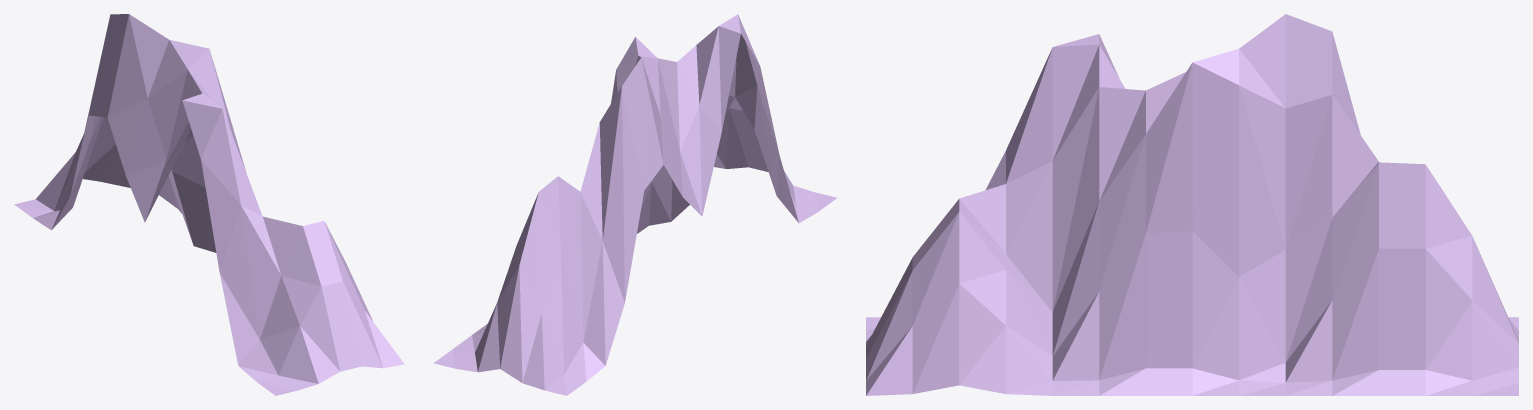
The model's file is terrain_x.dae.
3 views of the same model, side by side, from view 1: azimuth 30°, elevation 25°; view 2: azimuth 150°, elevation 25°; view 3: azimuth 270°, elevation 25° (orthographic). The views are drawn at different scales.
Parts seen in each view (by area): view 1: group_0_001; view 2: group_0_001; view 3: group_0_001.
Part boxes in pixels (left/top/right/bottom): group_0_001: left=14, top=14, right=404, bottom=395; group_0_001: left=433, top=14, right=837, bottom=395; group_0_001: left=866, top=14, right=1518, bottom=395.
Bounding box in the file's own units: 168 × 590 × 316.
